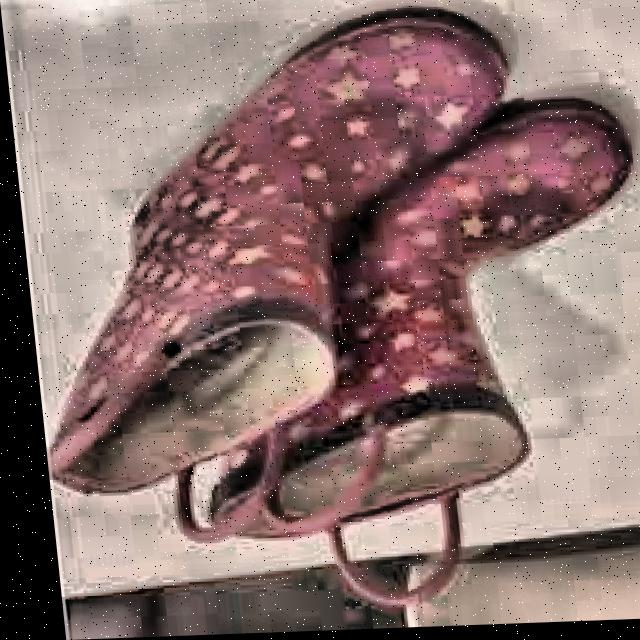shoes: (3, 3, 640, 607)
